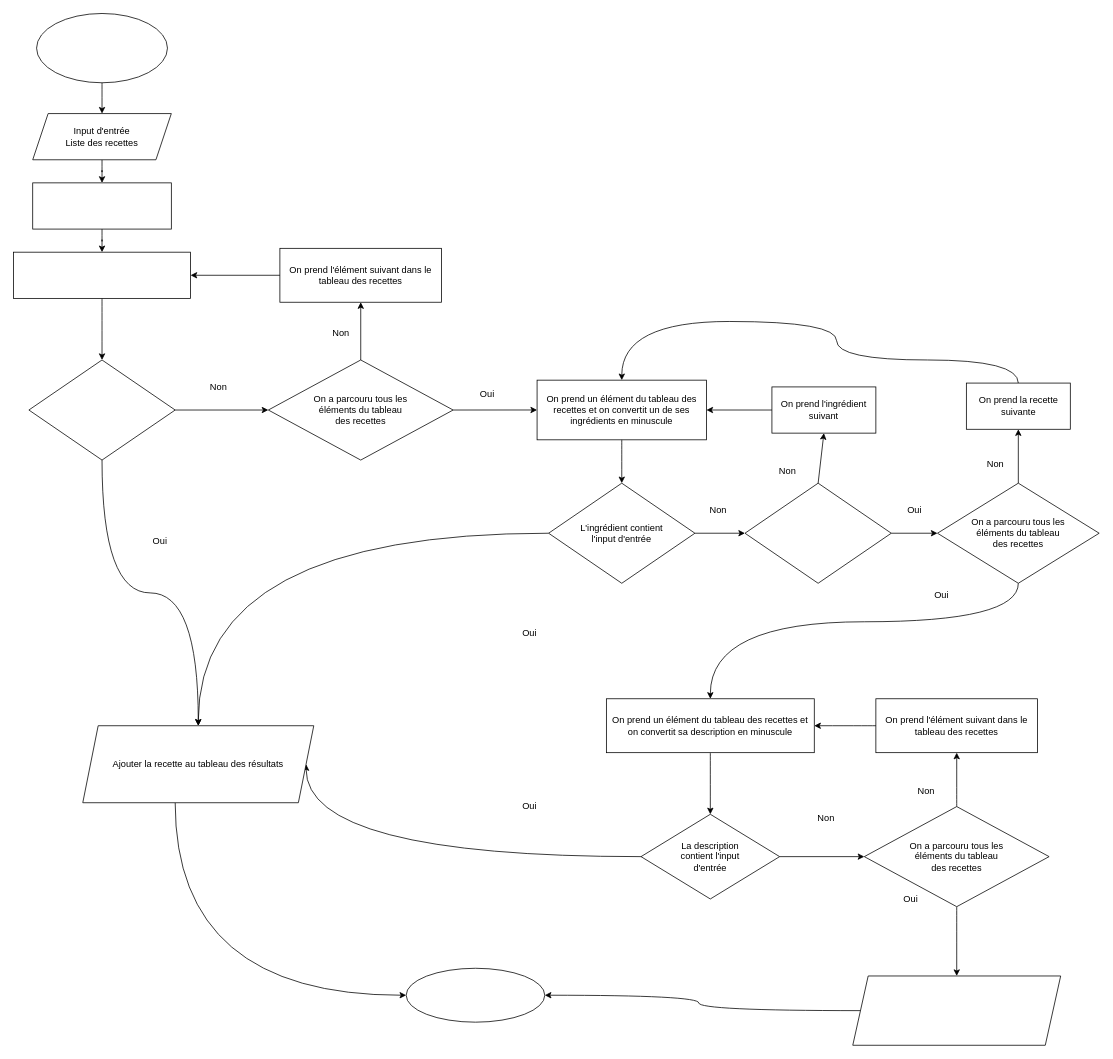
This 1113x1059 diagram has some shape labels left out. The shapes that lost their labels are listed below. From the top down, each one's centre as x and y in pixels, then its label:
[101,48]: Début
[101,205]: On convertit l'input d'entrée en minuscule
[102,274]: On prend un élément du tableau des recettes et on convertit son nom en minuscule
[101,409]: Le nom contient l'input d'entrée
[817,532]: On a parcouru tous les ingrédients du la recette
[475,995]: Fin
[956,1010]: Ne pas ajouter la recette au tableau des résultats
